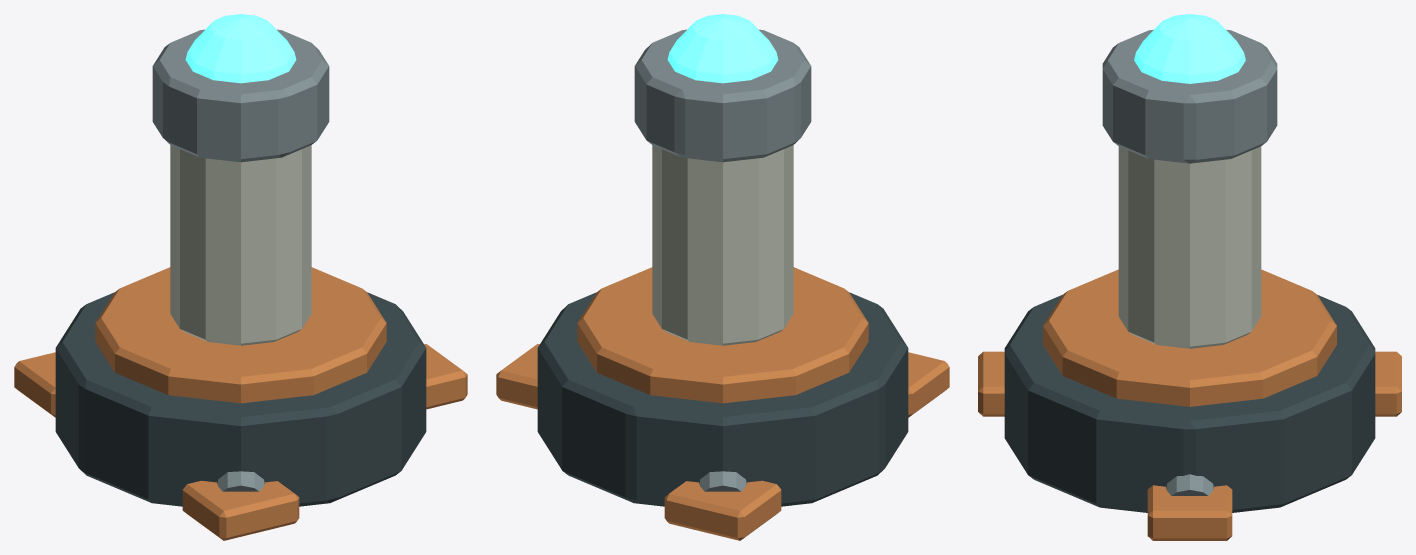
Rendered from conductive_anchor.glb.
3 renders of one model, left to right at view 1: azimuth 30°, elevation 25°; view 2: azimuth 150°, elevation 25°; view 3: azimuth 270°, elevation 25°, orthographic.
Visible parts, largest first — view 1: conductive_anchor_Surface; view 2: conductive_anchor_Surface; view 3: conductive_anchor_Surface.
Boxes of the visible parts, box(x1,y1,x2,y2) form: conductive_anchor_Surface: box(14, 14, 467, 540); conductive_anchor_Surface: box(496, 14, 949, 540); conductive_anchor_Surface: box(978, 14, 1401, 540).
Bounding box in the file's own units: 0.9611 × 1.07 × 0.9521.
Materials: 1 (1 with a texture image).
